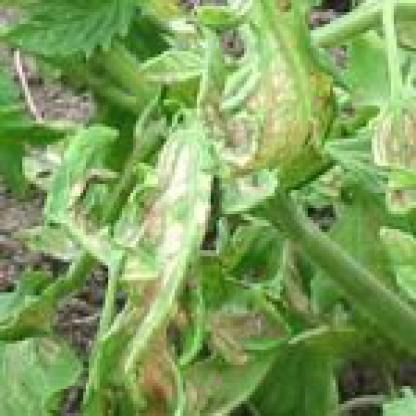Tomato leaf mosaic virus: (125, 133, 225, 365)
